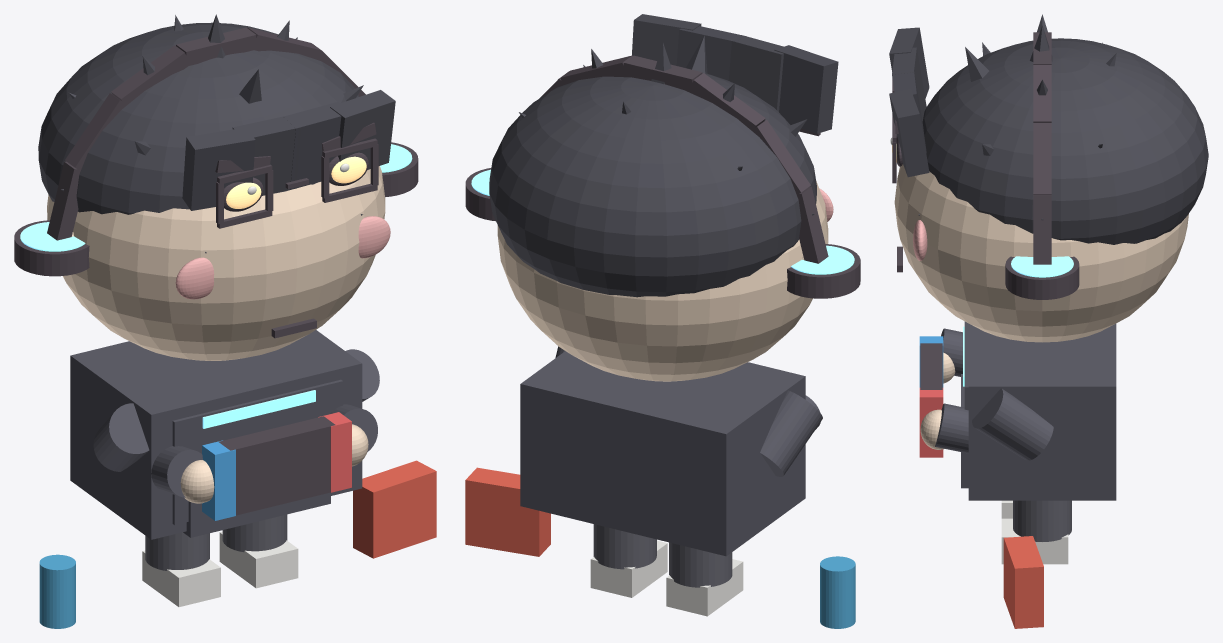
File: fatty2.glb
3 views of the same model, side by side, from view 1: azimuth 30°, elevation 25°; view 2: azimuth 150°, elevation 25°; view 3: azimuth 270°, elevation 25° (orthographic). The views are drawn at different scales.
Parts seen in each view (by area): view 1: Head, HairCap, Coat, Console, ChipsBag, CoatFront, Fringe_0, Fringe_3, Fringe_2, Fringe_1, EnergyCan, Shoe_R (+24 smaller); view 2: HairCap, Coat, Head, ChipsBag, Fringe_0, UpperArm_L, Fringe_1, EnergyCan, Leg_L, Leg_R, Shoe_L, Shoe_R (+10 smaller); view 3: HairCap, Head, Coat, ChipsBag, UpperArm_R, Leg_R, Fringe_3, EarCup_R, BandSeg_50, Forearm_R, BandSeg_75, Shoe_R (+11 smaller).
Part boxes in pixels (x1,y1,x2,y2): Head: (47,166,385,360); HairCap: (38,22,359,214); Coat: (70,330,362,539); Console: (219,416,335,515); ChipsBag: (353,460,436,558); CoatFront: (172,379,342,524); Fringe_0: (182,127,255,210); Fringe_3: (330,90,395,169); Fringe_2: (283,102,341,189); Fringe_1: (232,115,301,195); EnergyCan: (39,554,75,628); Shoe_R: (219,531,298,588); HairCap: (489,73,816,297); Coat: (520,351,805,556); Head: (497,181,828,381); ChipsBag: (465,467,550,556); Fringe_0: (774,45,838,133); UpperArm_L: (760,390,822,476); Fringe_1: (728,35,783,111); EnergyCan: (820,556,855,628); Leg_L: (669,542,732,587); Leg_R: (593,524,656,569); Shoe_L: (666,559,743,616); Shoe_R: (590,540,667,597); HairCap: (922,38,1208,244); Head: (894,164,1188,342); Coat: (968,324,1116,500); ChipsBag: (1003,536,1043,628); UpperArm_R: (972,388,1053,460); Leg_R: (1013,500,1071,541); Fringe_3: (889,89,929,177); EarCup_R: (1005,256,1079,299); BandSeg_50: (1033,122,1051,194); Forearm_R: (935,403,968,453); BandSeg_75: (1033,195,1051,264); Shoe_R: (1001,518,1068,564).
Bounding box in the file's own units: 1.5 × 2 × 1.13.
